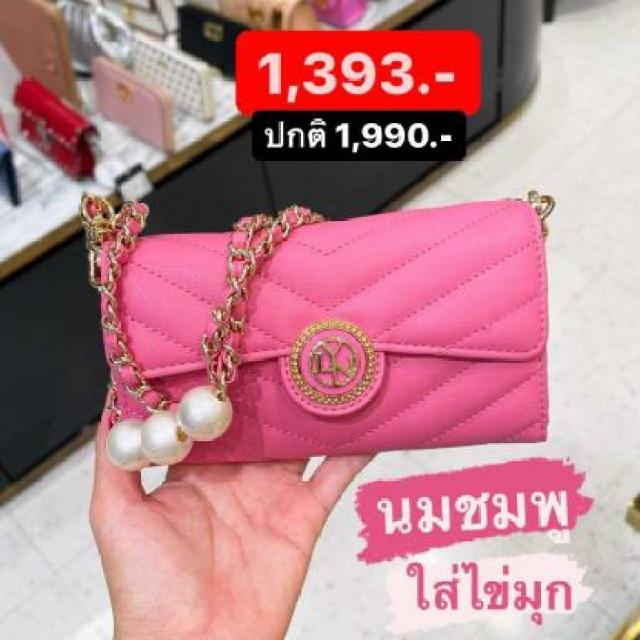Bag: (52, 174, 586, 508)
